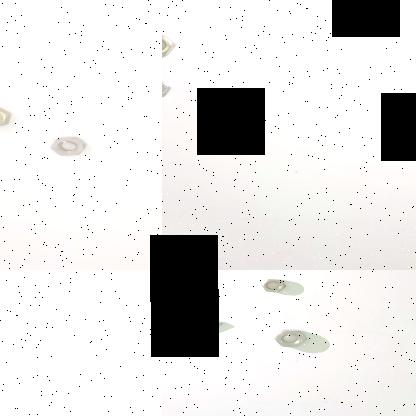Bolts: (175, 318, 227, 342)
NUTS: (43, 134, 90, 159), (274, 323, 312, 352), (251, 272, 283, 296), (162, 274, 190, 294), (162, 308, 181, 334), (162, 34, 179, 57), (0, 104, 16, 128), (162, 79, 175, 96)
